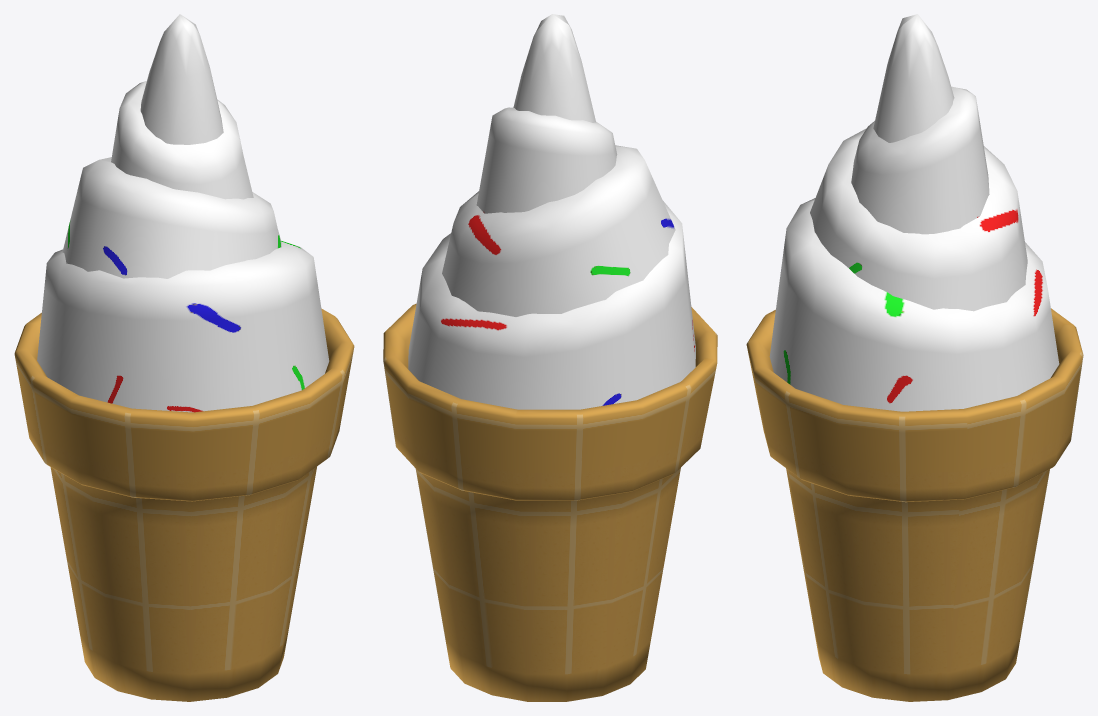
The model's file is conehat.fbx.
The picture shows the model from 3 angles, left to right: view 1: azimuth 30°, elevation 25°; view 2: azimuth 150°, elevation 25°; view 3: azimuth 270°, elevation 25°; orthographic projection.
Parts seen in each view (by area): view 1: Circle; view 2: Circle; view 3: Circle.
Part boxes in pixels (left/top/right/bottom): Circle: left=14, top=14, right=354, bottom=701; Circle: left=383, top=14, right=717, bottom=701; Circle: left=746, top=14, right=1083, bottom=701.
Size of the model in its own units: 226 by 481 by 226.
